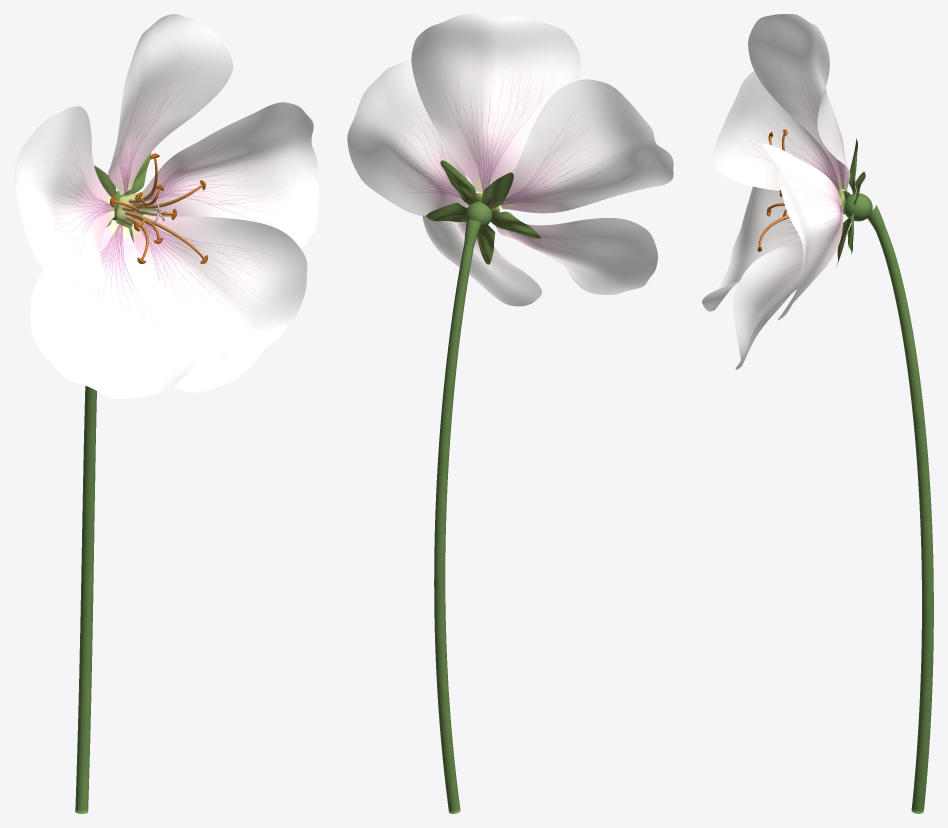
File: flor_interactiva1.glb
3 renders of one model, left to right at view 1: azimuth 30°, elevation 25°; view 2: azimuth 150°, elevation 25°; view 3: azimuth 270°, elevation 25°, orthographic. The views are drawn at different scales.
Parts seen in each view (by area): view 1: Petalo_5, Petalo_4, Petalo_1, Petalo_3, Petalo_2, Tallo, Caliz; view 2: Petalo_2, Petalo_3, Petalo_1, Petalo_4, Tallo, Petalo_5, Caliz; view 3: Petalo_2, Tallo, Petalo_3, Petalo_1, Petalo_5, Petalo_4, Caliz.
Part boxes in pixels (x1,y1,x2,y2): Petalo_5: [131, 214, 307, 392]; Petalo_4: [30, 222, 199, 398]; Petalo_1: [141, 102, 318, 248]; Petalo_3: [14, 106, 114, 287]; Petalo_2: [108, 14, 232, 195]; Tallo: [75, 386, 96, 813]; Caliz: [94, 152, 172, 242]; Petalo_2: [411, 14, 580, 191]; Petalo_3: [500, 79, 673, 213]; Petalo_1: [347, 60, 468, 215]; Petalo_4: [495, 218, 657, 294]; Tallo: [434, 219, 480, 813]; Petalo_5: [422, 206, 541, 306]; Caliz: [426, 160, 540, 264]; Petalo_2: [748, 14, 850, 191]; Tallo: [867, 205, 933, 813]; Petalo_3: [713, 71, 842, 190]; Petalo_1: [762, 144, 843, 320]; Petalo_5: [733, 242, 803, 369]; Petalo_4: [702, 186, 801, 311]; Caliz: [836, 138, 872, 266].
Size of the model in its own units: 0.1022 by 0.2492 by 0.0655.
Materials: 7 (3 with a texture image).
